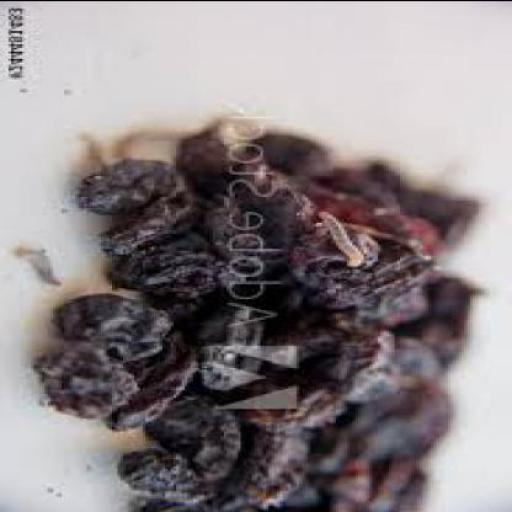biodegradable: (300, 223, 434, 317), (84, 160, 210, 256), (302, 183, 448, 264), (213, 175, 301, 283), (145, 394, 246, 482), (56, 292, 179, 363), (112, 229, 235, 300), (109, 340, 201, 430), (269, 324, 394, 389), (221, 427, 313, 510), (193, 305, 269, 393), (44, 354, 140, 415), (403, 188, 489, 254), (246, 378, 350, 428), (123, 450, 215, 504), (394, 383, 456, 460), (249, 136, 338, 180), (398, 316, 470, 370), (184, 128, 244, 192), (332, 168, 409, 212), (391, 337, 448, 395), (313, 462, 377, 507), (311, 426, 361, 477), (374, 459, 422, 511), (350, 358, 402, 404), (434, 279, 478, 331), (356, 419, 402, 466), (392, 474, 430, 511), (355, 401, 395, 435), (139, 501, 259, 511), (160, 298, 207, 322), (330, 498, 370, 511)
